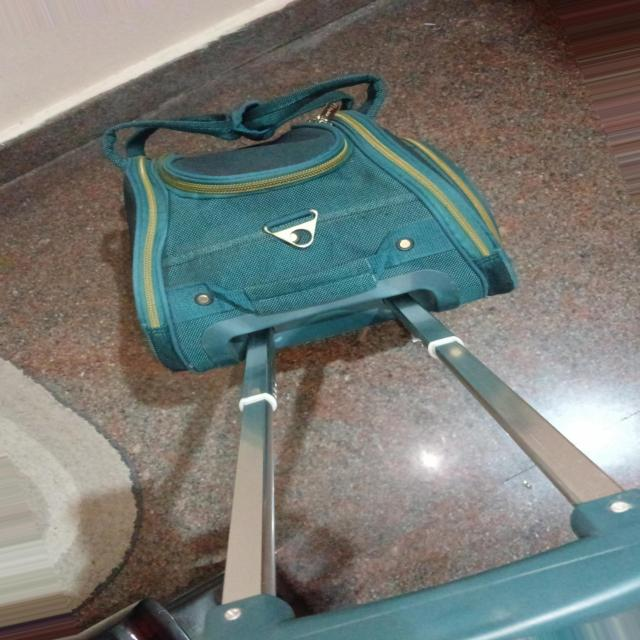Bag: (82, 65, 640, 640)
Handle: (163, 256, 640, 634)
